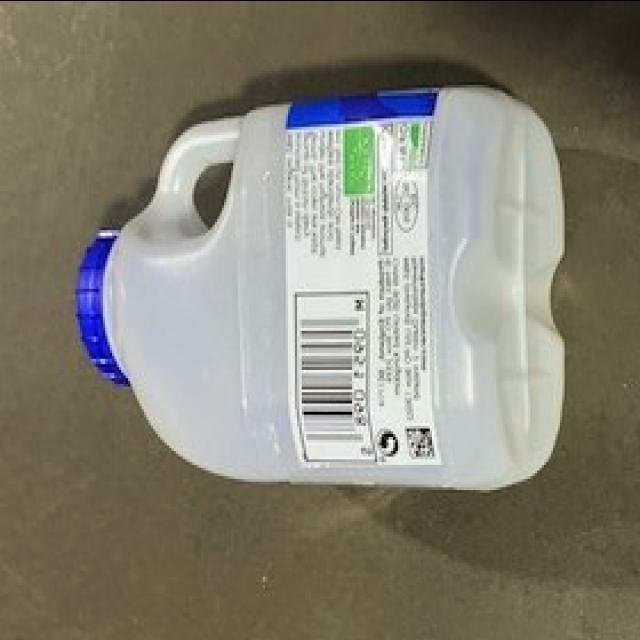HDPE Plastic: (71, 79, 575, 495)
